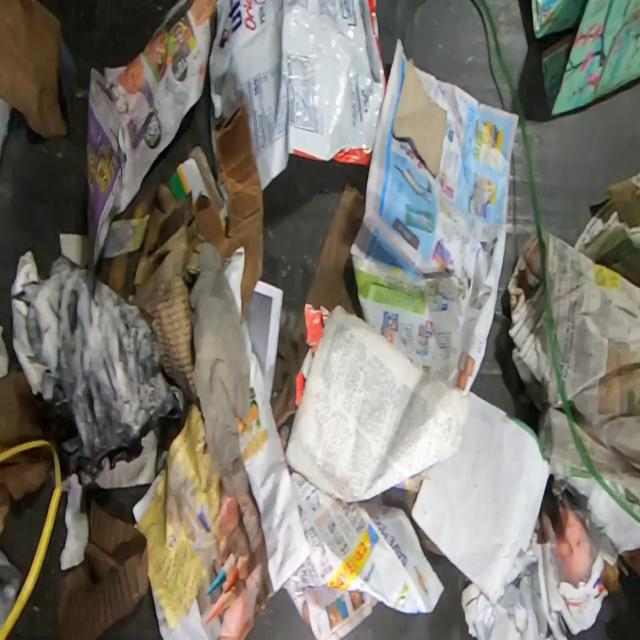cardboard: (96, 100, 262, 405), (54, 500, 150, 638), (532, 0, 640, 118), (393, 57, 448, 183)
soft_plastic: (208, 0, 387, 190)
